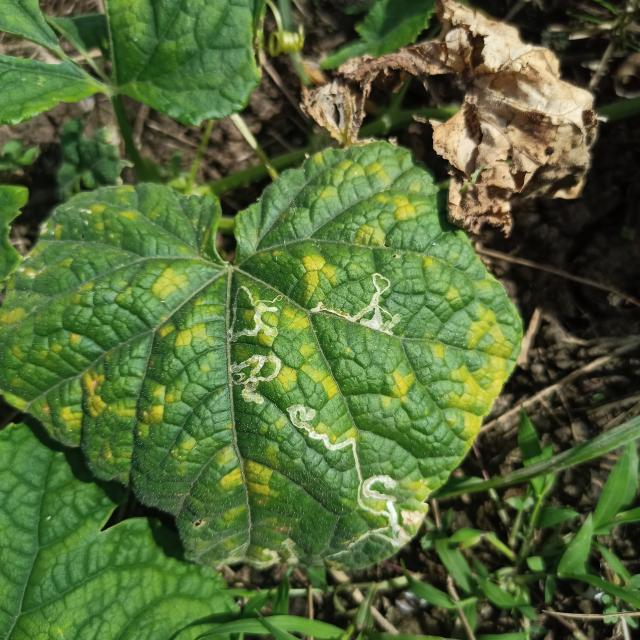disease_cucumber: (39, 160, 506, 554)
